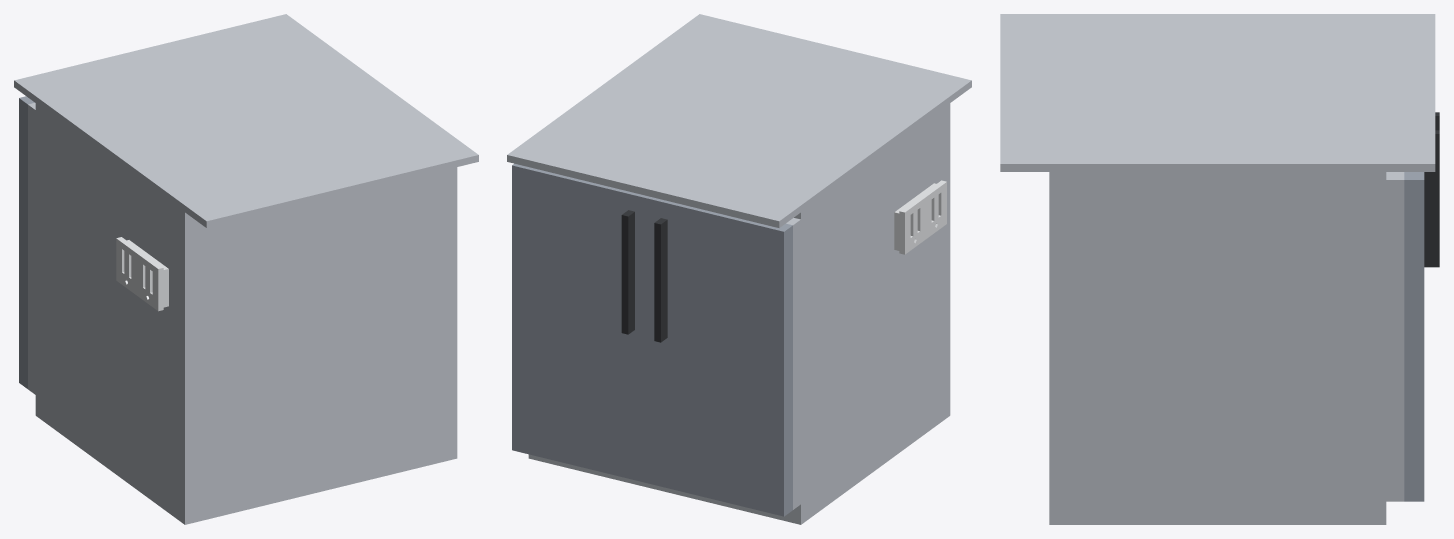
The model's file is counter_counter_side_outlet.glb.
3 renders of one model, left to right at view 1: azimuth 30°, elevation 25°; view 2: azimuth 150°, elevation 25°; view 3: azimuth 270°, elevation 25°, orthographic. The views are drawn at different scales.
Parts seen in each view (by area): view 1: counter_counter_side_outlet.001, counter_counter_cabinet_door014, counter_Cube; view 2: counter_counter_side_outlet.001, counter_counter_cabinet_door014, counter_counter_cabinet_door015, counter_Cube; view 3: counter_counter_side_outlet.001, counter_counter_cabinet_door015.
Part boxes in pixels (x1,y1,x2,y2): counter_counter_side_outlet.001: (14,14,478,524); counter_counter_cabinet_door014: (19,96,34,388); counter_Cube: (116,237,168,311); counter_counter_side_outlet.001: (507,14,971,524); counter_counter_cabinet_door014: (648,197,792,516); counter_counter_cabinet_door015: (512,163,649,483); counter_Cube: (894,180,946,254); counter_counter_side_outlet.001: (1000,14,1435,524); counter_counter_cabinet_door015: (1404,130,1439,501).
Bounding box in the file's own units: 64.71 × 69.57 × 76.73.
Materials: 1 (1 with a texture image).
